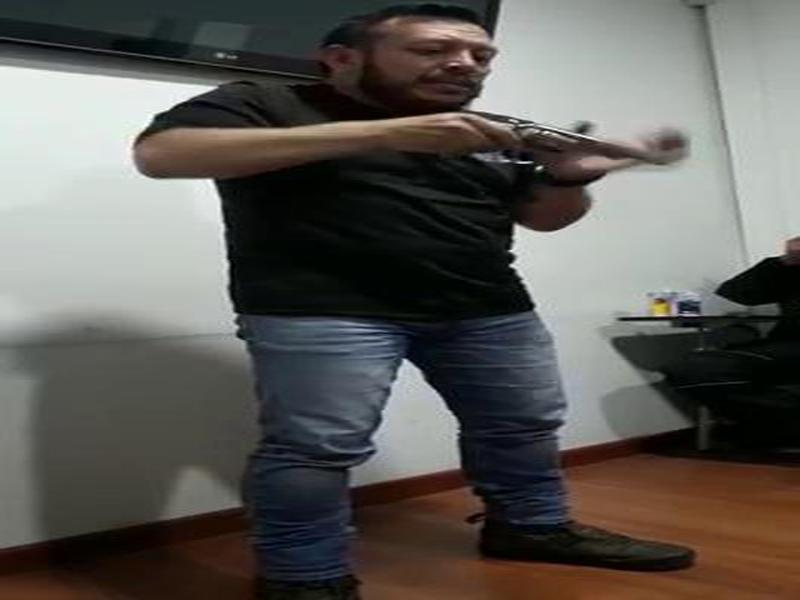Revolver: (479, 101, 666, 191)
